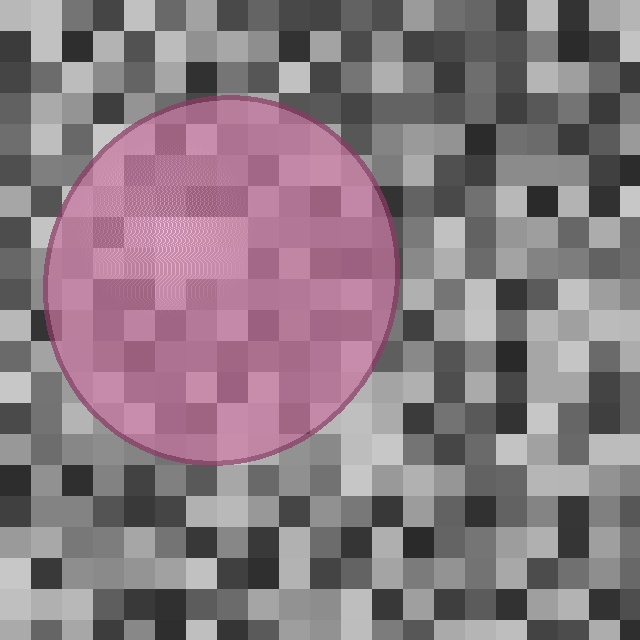lens: (45, 98, 397, 462)
